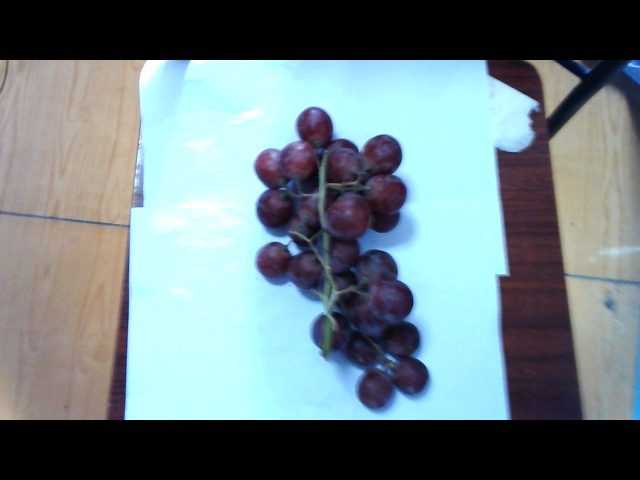grape: (257, 116, 447, 409)
